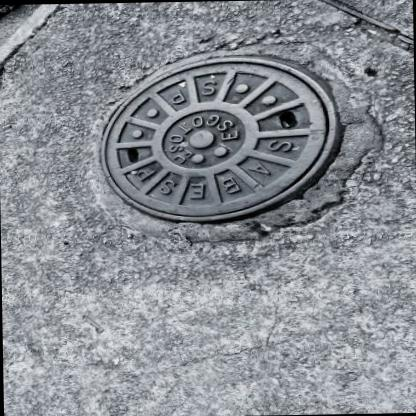manholes: (65, 26, 361, 239)
